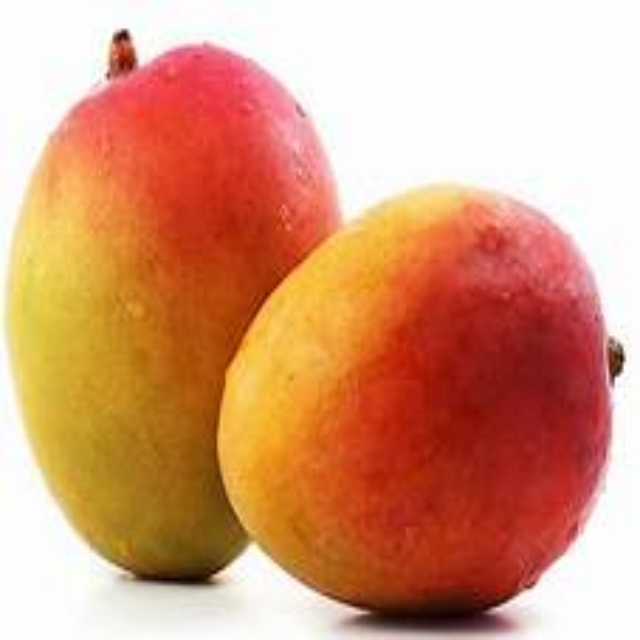mango: (16, 41, 342, 589), (215, 186, 614, 624)
